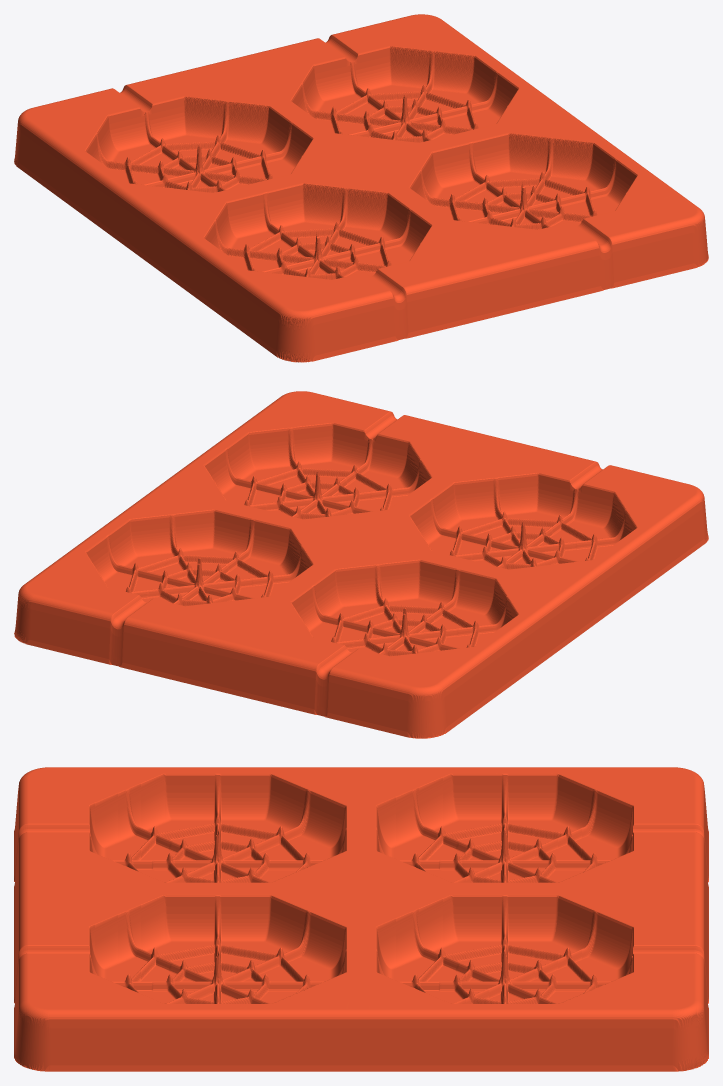
Rendered from mold.glb.
The picture shows the model from 3 angles, top to bottom: view 1: azimuth 30°, elevation 25°; view 2: azimuth 150°, elevation 25°; view 3: azimuth 270°, elevation 25°; orthographic projection. The views are drawn at different scales.
Visible parts, largest first — view 1: geometry_0; view 2: geometry_0; view 3: geometry_0.
Boxes of the visible parts, x1,y1,x2,y2 form: geometry_0: (14,14,708,362); geometry_0: (14,391,708,738); geometry_0: (14,767,708,1071).
Bounding box in the file's own units: 0.1497 × 0.0155 × 0.1735.
